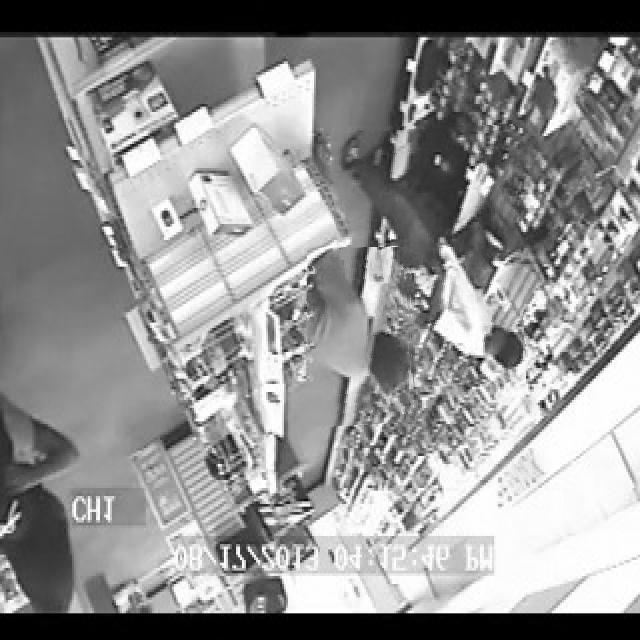Normal: (334, 126, 523, 388), (307, 247, 413, 426)
